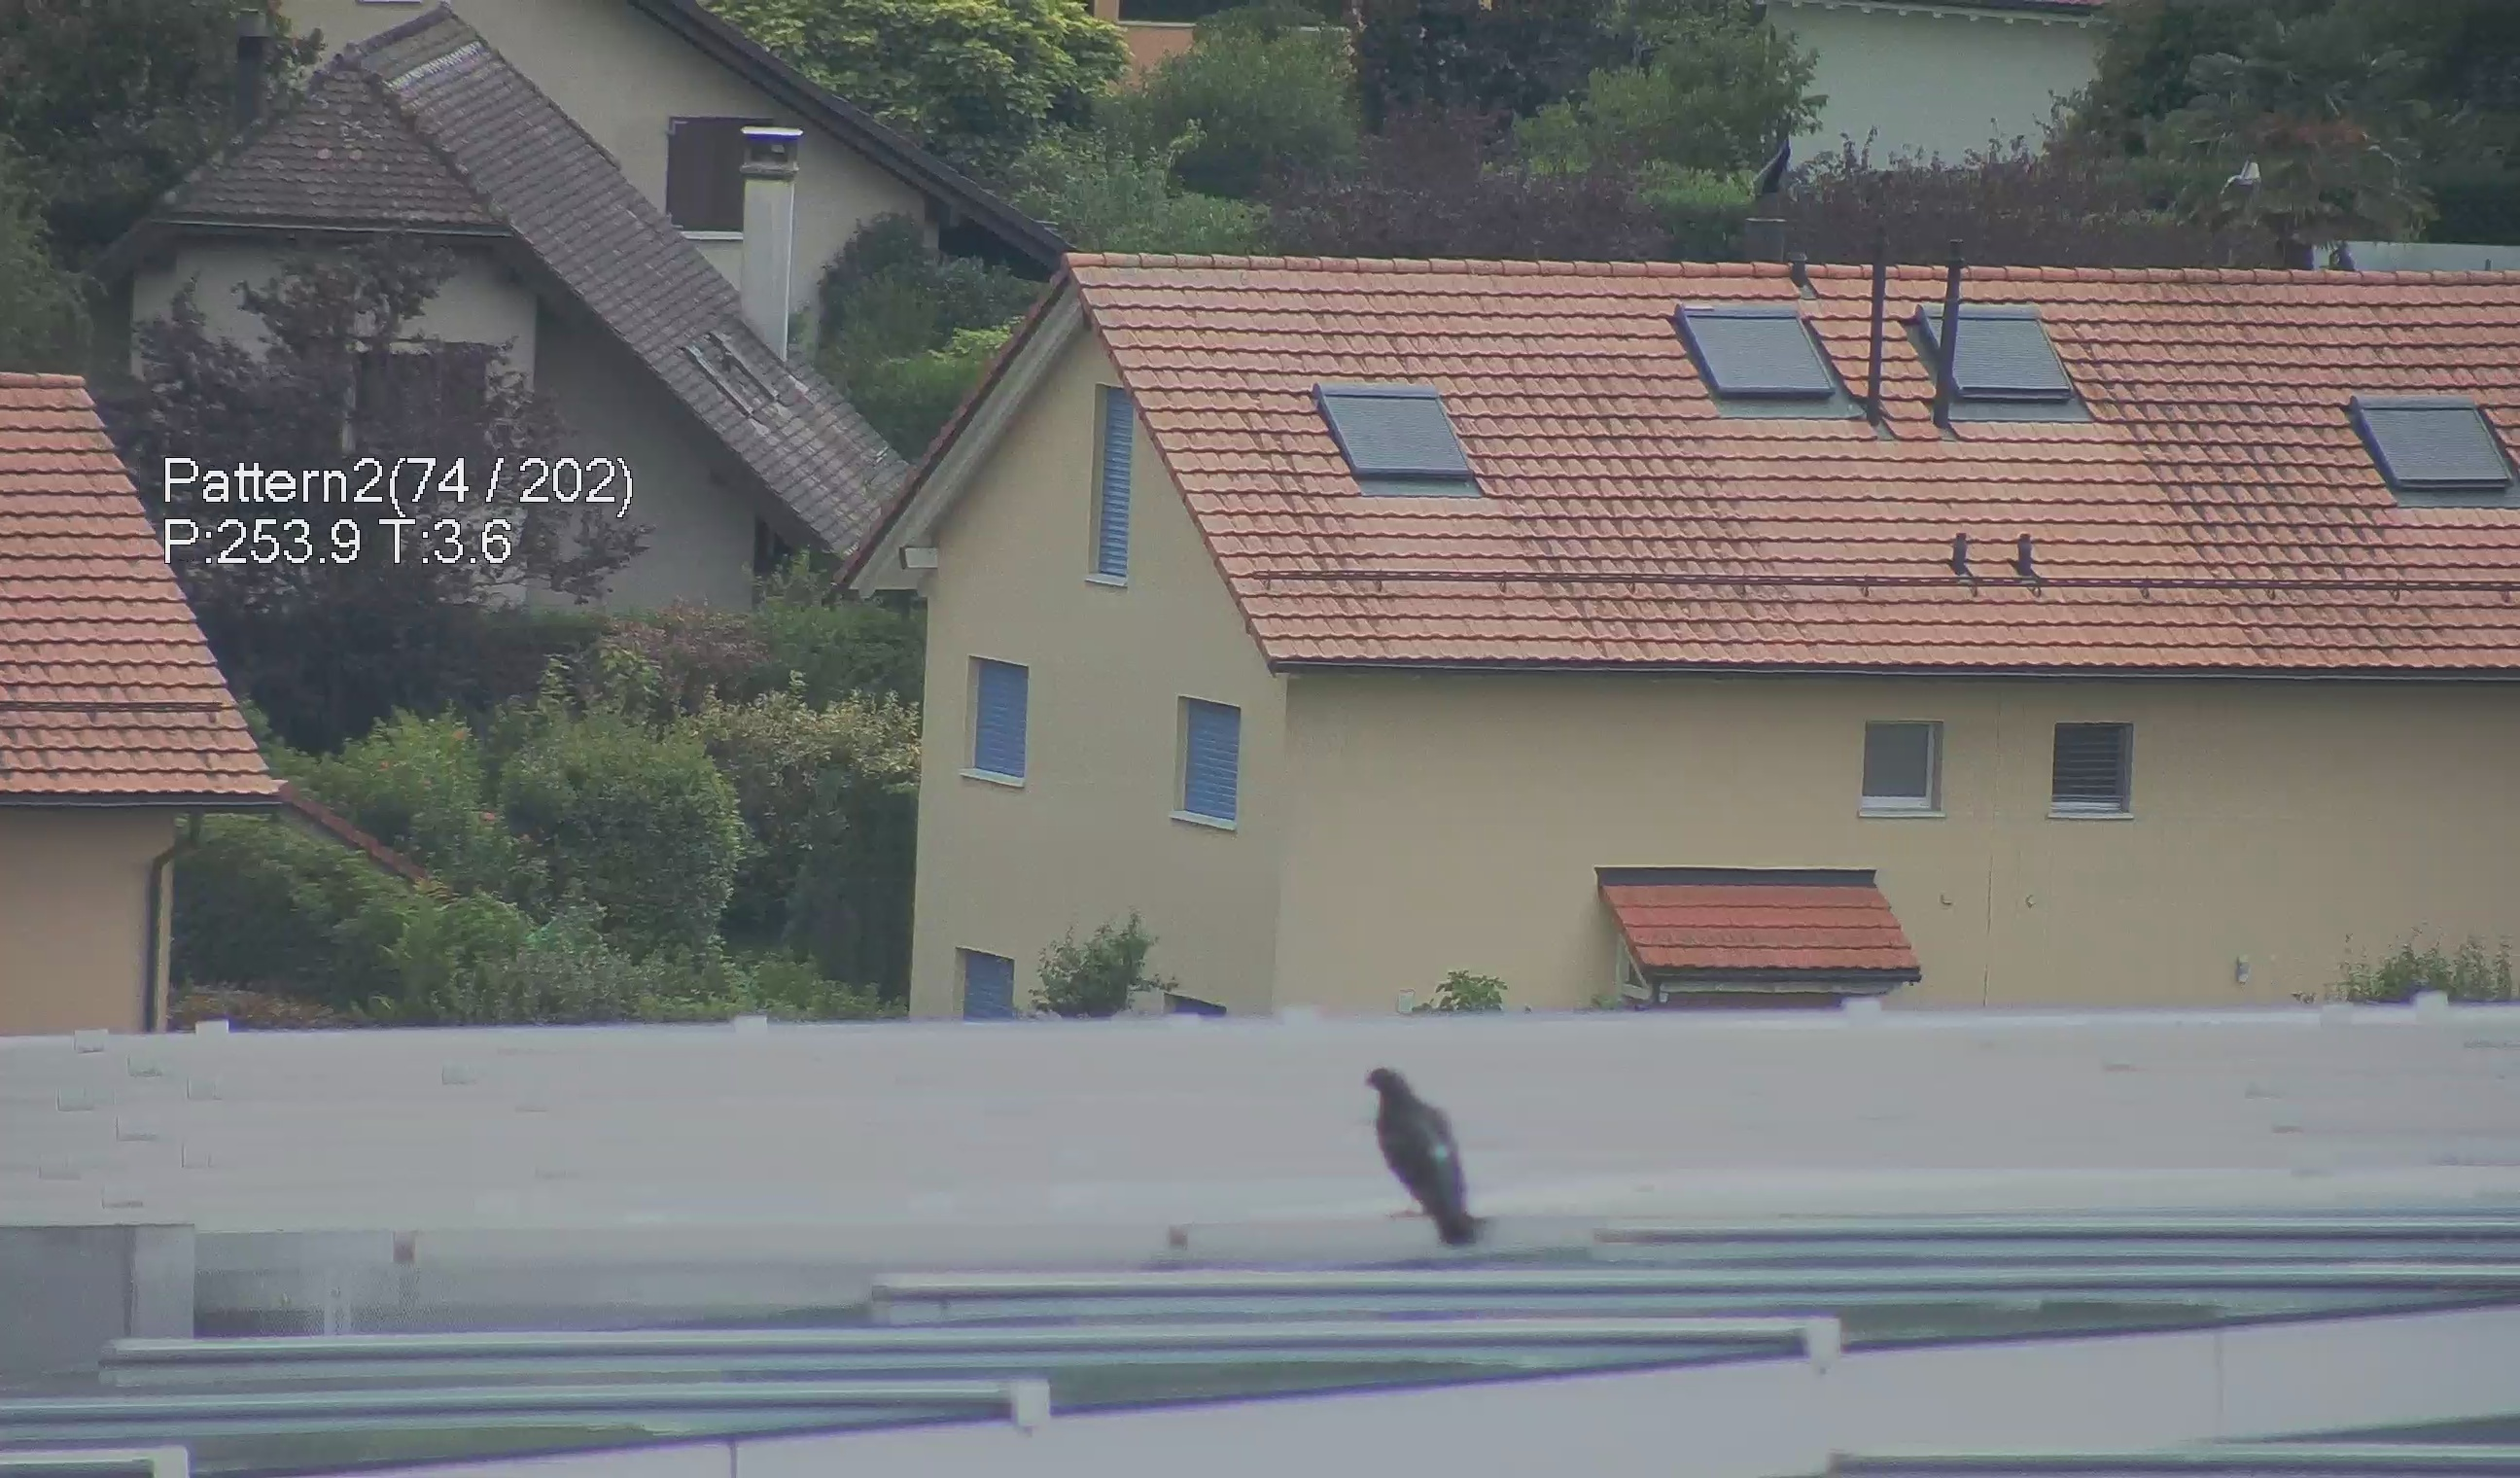Pigeon: (1345, 1061, 1495, 1246)
